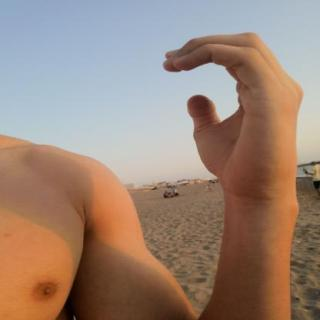JEEM: (152, 25, 313, 207)
